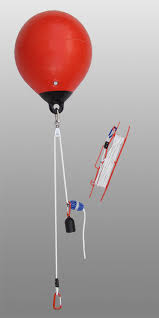buoy: (13, 10, 94, 90)
